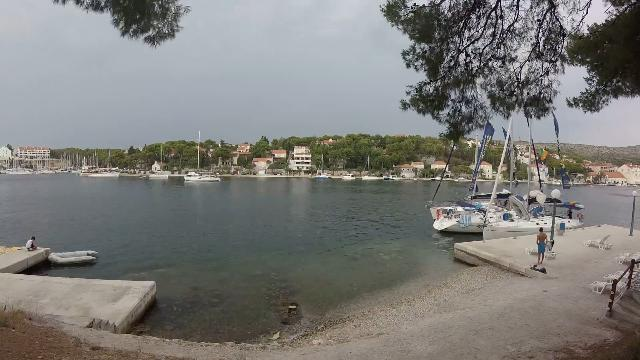Sailboat: (178, 169, 228, 183), (142, 166, 172, 182)
